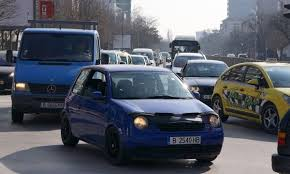registration_plate: (165, 136, 204, 145), (40, 101, 65, 108)
